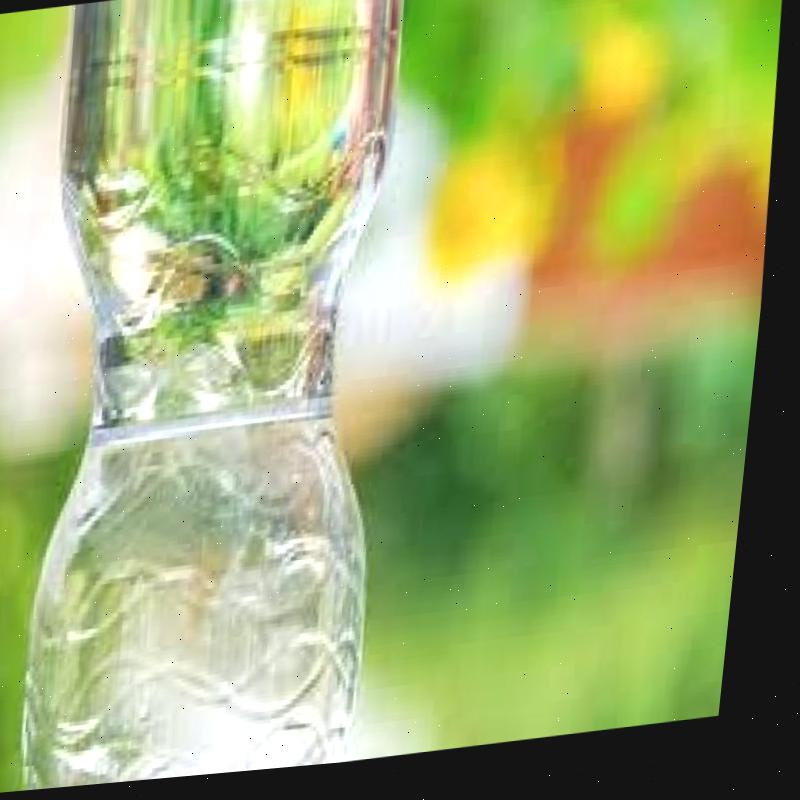botella: (3, 0, 441, 795)
